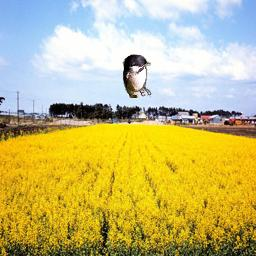Swallow: (122, 53, 152, 98)
